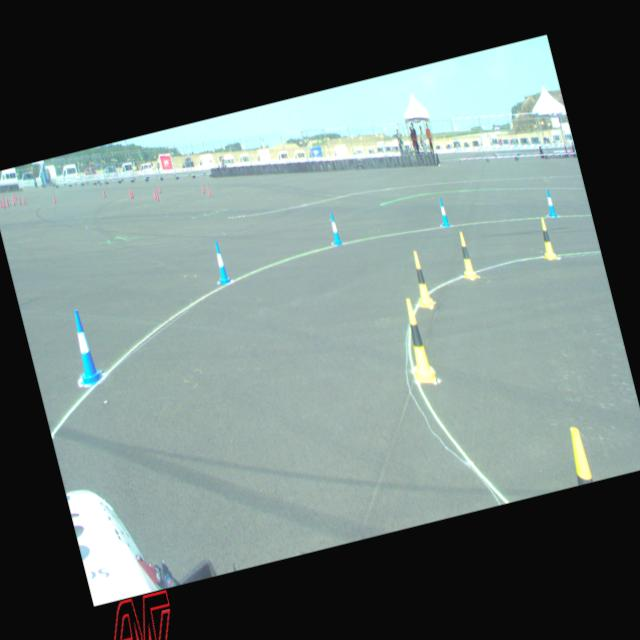blue_cone: (62, 306, 104, 386), (209, 240, 230, 284), (326, 212, 343, 246), (436, 196, 450, 228), (543, 188, 557, 218)
orange_cone: (154, 190, 160, 200), (127, 188, 132, 199), (200, 182, 204, 194), (206, 186, 210, 197), (152, 188, 156, 198), (157, 184, 161, 194), (130, 188, 134, 198), (102, 188, 106, 198)
yellow_cone: (396, 297, 436, 388), (564, 425, 593, 485), (406, 249, 434, 311), (452, 229, 478, 281), (535, 217, 557, 260)
